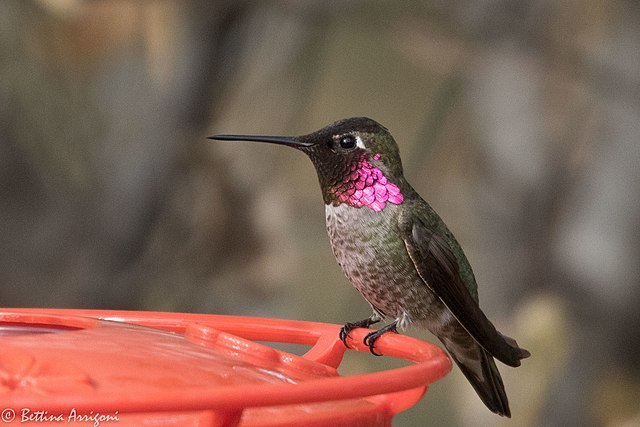calypte anna: (208, 112, 531, 420)
